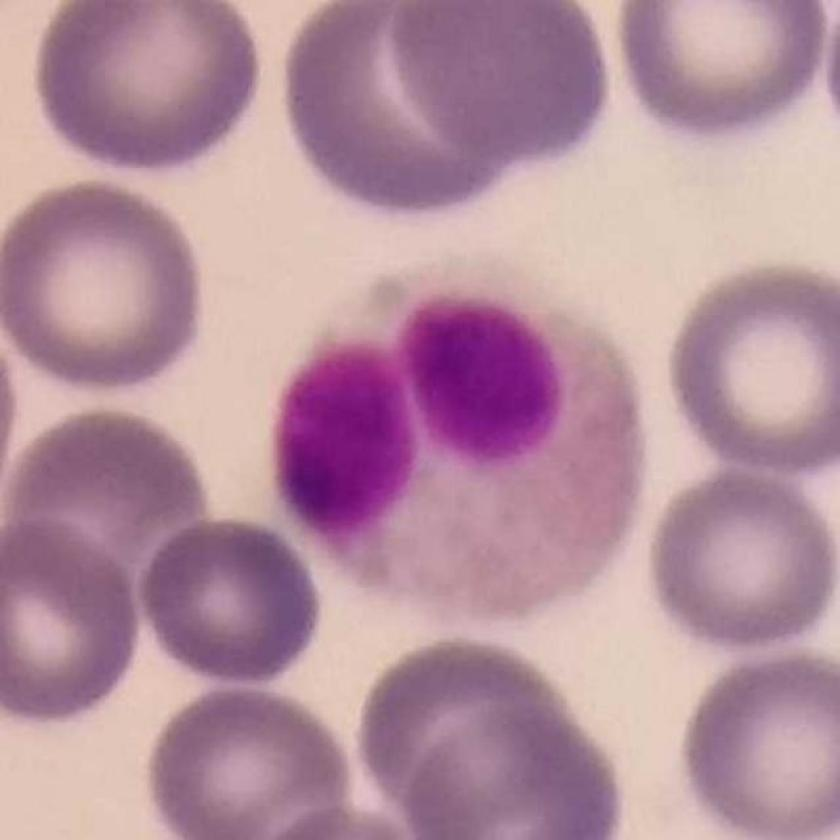eosinophil: (270, 251, 656, 629)
